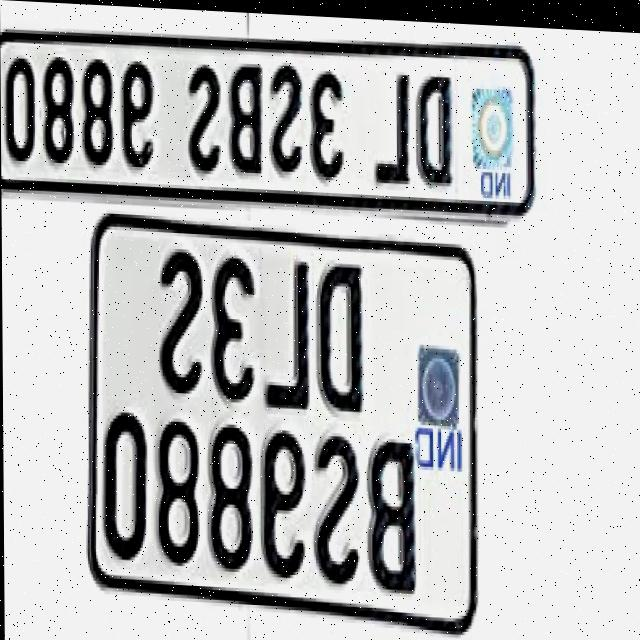plate: (85, 207, 481, 635), (0, 13, 541, 214)
